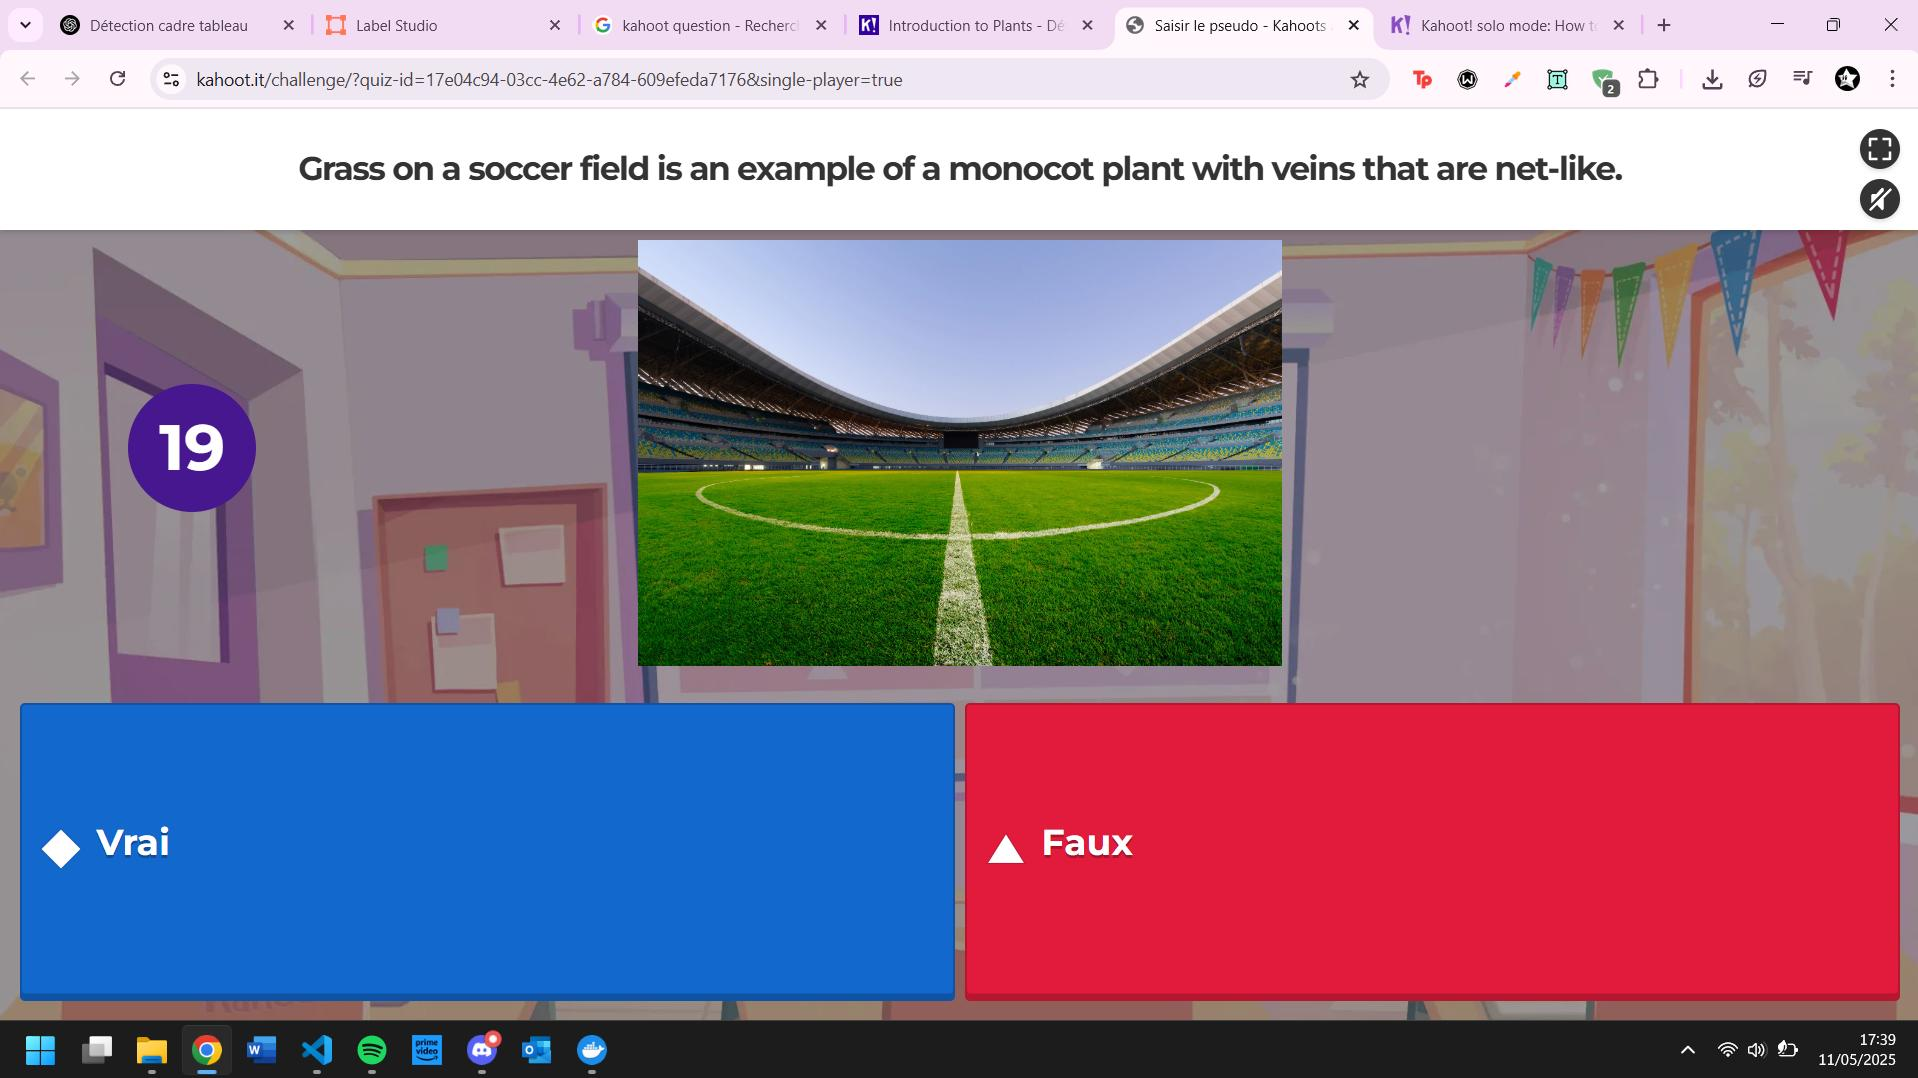answer_blue: (21, 704, 950, 991)
answer_red: (968, 704, 1895, 989)
question_box: (0, 106, 1850, 228)
